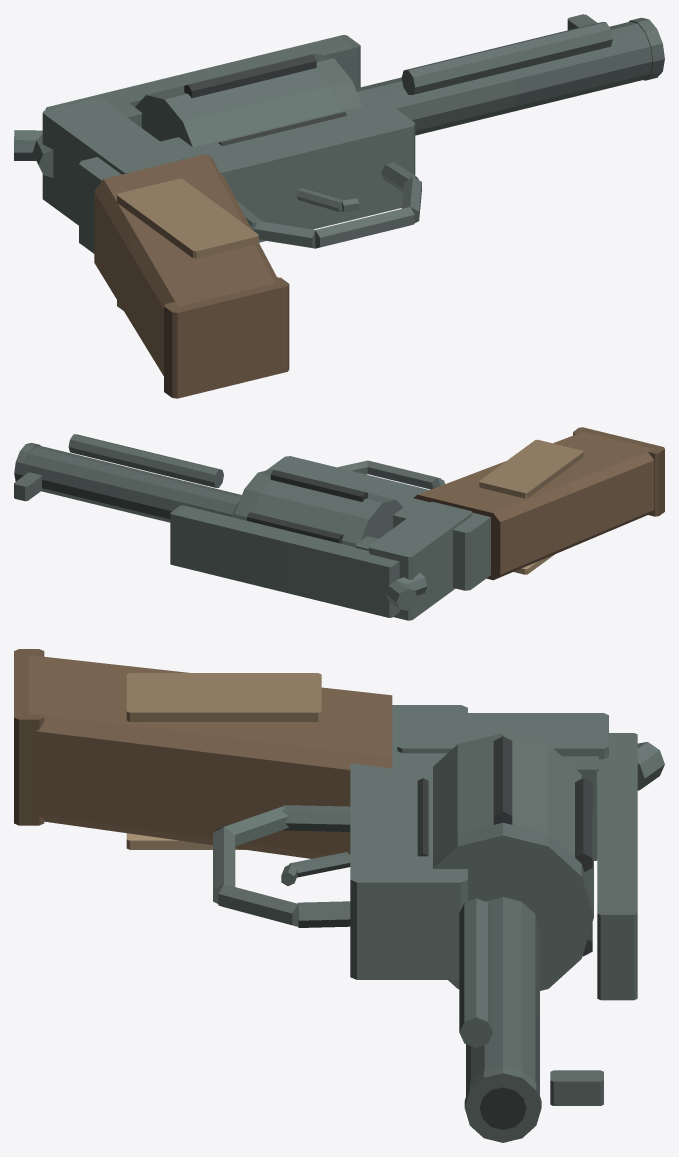
The model's file is weapon-colt-saa.glb.
The picture shows the model from 3 angles, top to bottom: view 1: azimuth 30°, elevation 25°; view 2: azimuth 150°, elevation 25°; view 3: azimuth 270°, elevation 25°; orthographic projection. The views are drawn at different scales.
Parts seen in each view (by area): view 1: weapon-colt-saa/lower-frame, weapon-colt-saa/eight-sided-wood-grip, weapon-colt-saa/eight-sided-wood-grip-heel, weapon-colt-saa/barrel, weapon-colt-saa/fluted-cylinder, weapon-colt-saa/frame-rear, weapon-colt-saa/grip-plaque-left, weapon-colt-saa/offset-side-housing, weapon-colt-saa/continuous-top-strap, weapon-colt-saa/cylinder-long-flute-3, weapon-colt-saa/hollow-trigger-guard-4, weapon-colt-saa/hollow-trigger-guard-5 (+7 smaller); view 2: weapon-colt-saa/eight-sided-wood-grip, weapon-colt-saa/continuous-top-strap, weapon-colt-saa/barrel, weapon-colt-saa/fluted-cylinder, weapon-colt-saa/frame-rear, weapon-colt-saa/lower-frame, weapon-colt-saa/grip-plaque-left, weapon-colt-saa/offset-side-housing, weapon-colt-saa/eight-sided-wood-grip-heel, weapon-colt-saa/cylinder-long-flute-3, weapon-colt-saa/cylinder-long-flute-2, weapon-colt-saa/hollow-trigger-guard-4 (+4 smaller); view 3: weapon-colt-saa/eight-sided-wood-grip, weapon-colt-saa/fluted-cylinder, weapon-colt-saa/lower-frame, weapon-colt-saa/continuous-top-strap, weapon-colt-saa/grip-plaque-left, weapon-colt-saa/barrel, weapon-colt-saa/frame-rear, weapon-colt-saa/offset-side-housing, weapon-colt-saa/eight-sided-wood-grip-heel, weapon-colt-saa/barrel-end-rim, weapon-colt-saa/front-sight, weapon-colt-saa/hollow-trigger-guard-3 (+12 smaller).
Boxes of the visible parts, <box> form: weapon-colt-saa/lower-frame: <box>79,91,415,253</box>; weapon-colt-saa/eight-sided-wood-grip: <box>94,154,276,375</box>; weapon-colt-saa/eight-sided-wood-grip-heel: <box>164,277,289,398</box>; weapon-colt-saa/barrel: <box>356,21,652,135</box>; weapon-colt-saa/fluted-cylinder: <box>135,53,362,147</box>; weapon-colt-saa/frame-rear: <box>42,98,182,225</box>; weapon-colt-saa/grip-plaque-left: <box>117,178,258,258</box>; weapon-colt-saa/offset-side-housing: <box>401,22,612,94</box>; weapon-colt-saa/continuous-top-strap: <box>45,35,360,109</box>; weapon-colt-saa/cylinder-long-flute-3: <box>184,54,316,98</box>; weapon-colt-saa/hollow-trigger-guard-4: <box>315,207,414,248</box>; weapon-colt-saa/hollow-trigger-guard-5: <box>254,221,315,248</box>; weapon-colt-saa/eight-sided-wood-grip: <box>413,431,654,580</box>; weapon-colt-saa/continuous-top-strap: <box>170,505,399,617</box>; weapon-colt-saa/barrel: <box>23,445,241,522</box>; weapon-colt-saa/fluted-cylinder: <box>234,469,403,546</box>; weapon-colt-saa/frame-rear: <box>369,502,472,620</box>; weapon-colt-saa/lower-frame: <box>266,456,490,590</box>; weapon-colt-saa/grip-plaque-left: <box>479,439,583,498</box>; weapon-colt-saa/offset-side-housing: <box>68,434,223,487</box>; weapon-colt-saa/eight-sided-wood-grip-heel: <box>573,427,664,516</box>; weapon-colt-saa/cylinder-long-flute-3: <box>270,469,367,501</box>; weapon-colt-saa/cylinder-long-flute-2: <box>247,512,343,543</box>; weapon-colt-saa/hollow-trigger-guard-4: <box>367,460,440,489</box>; weapon-colt-saa/eight-sided-wood-grip: <box>29,655,392,858</box>; weapon-colt-saa/fluted-cylinder: <box>433,733,593,990</box>; weapon-colt-saa/lower-frame: <box>350,705,467,979</box>; weapon-colt-saa/continuous-top-strap: <box>597,733,637,1000</box>; weapon-colt-saa/grip-plaque-left: <box>126,673,321,721</box>; weapon-colt-saa/barrel: <box>466,897,539,1095</box>; weapon-colt-saa/frame-rear: <box>397,713,608,759</box>; weapon-colt-saa/offset-side-housing: <box>459,898,492,1047</box>; weapon-colt-saa/eight-sided-wood-grip-heel: <box>14,649,44,825</box>; weapon-colt-saa/barrel-end-rim: <box>464,1066,541,1142</box>; weapon-colt-saa/front-sight: <box>550,1070,603,1105</box>; weapon-colt-saa/hollow-trigger-guard-3: <box>218,884,299,926</box>.
Size of the model in its own units: 0.2864 by 0.0614 by 0.1936.
Materials: 4 (4 with a texture image).
